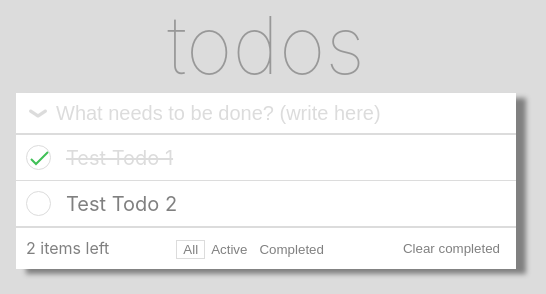
Scenario: App component › should clear completed todos
Click the button "Clear completed" at (451, 248), box [397,238,506,259]
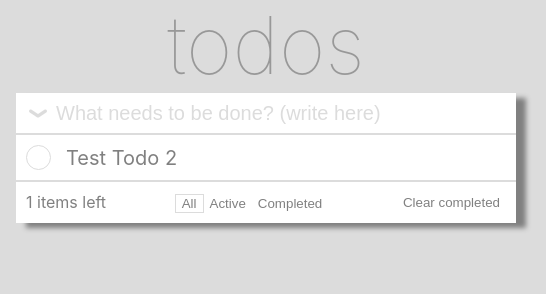
Now the text "Test Todo 1" is gone
